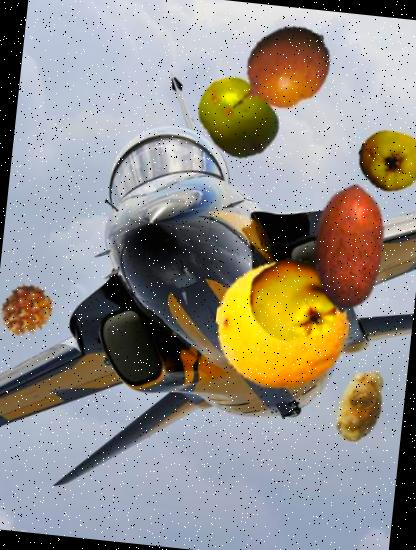Cantaloupe: (209, 252, 354, 398)
Ginger: (318, 364, 402, 448)
Granadilla: (215, 9, 341, 136)
Nut: (276, 176, 416, 322)
Pineapple: (0, 280, 56, 340)
Pomelo: (190, 70, 285, 164)
Quince: (242, 252, 345, 356), (355, 125, 416, 196)
